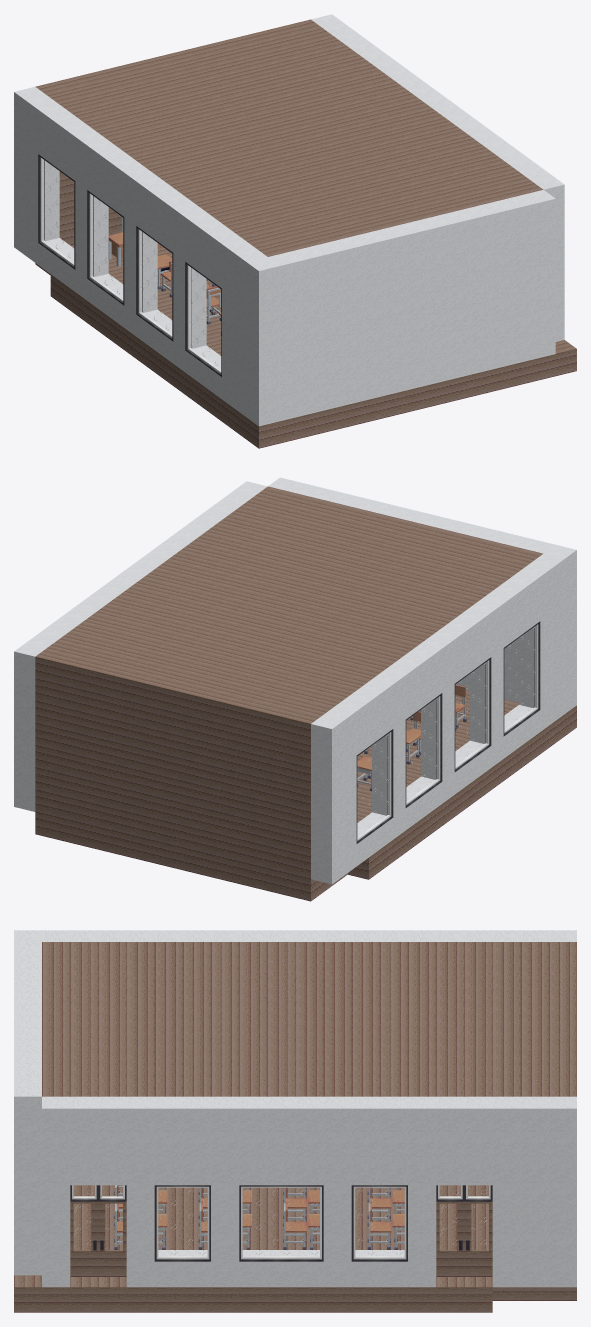
Rendered from scene_1_int_sekolah.glb.
3 views of the same model, one above another, from view 1: azimuth 30°, elevation 25°; view 2: azimuth 150°, elevation 25°; view 3: azimuth 270°, elevation 25° (orthographic). The views are drawn at different scales.
Parts seen in each view (by area): view 1: cube_570, cube_552, cube_561, cube_534, cube_543, cube_579, cube_67, cube_588, cube_573, cube_568, cube_571, cube_574 (+41 smaller); view 2: cube_795, cube_800, cube_796, cube_801, cube_797, cube_799, cube_798, cube_893, cube_892, cube_895, cube_897, cube_889 (+42 smaller); view 3: cube_646, cube_684, cube_735, cube_650, cube_655, cube_661, cube_665, cube_674, cube_680, cube_688, cube_694, cube_700 (+112 smaller).
Part boxes in pixels (bbox=[...]): cube_570: bbox=[246, 257, 279, 293]; cube_552: bbox=[246, 373, 279, 404]; cube_561: bbox=[246, 285, 279, 315]; cube_534: bbox=[246, 396, 279, 426]; cube_543: bbox=[246, 351, 279, 381]; cube_579: bbox=[246, 307, 279, 337]; cube_67: bbox=[246, 418, 279, 448]; cube_588: bbox=[246, 329, 279, 359]; cube_573: bbox=[331, 236, 364, 272]; cube_568: bbox=[416, 215, 449, 251]; cube_571: bbox=[289, 247, 322, 282]; cube_574: bbox=[374, 226, 407, 262]; cube_795: bbox=[311, 715, 344, 751]; cube_800: bbox=[311, 831, 344, 862]; cube_796: bbox=[311, 743, 344, 773]; cube_801: bbox=[311, 854, 344, 884]; cube_797: bbox=[311, 765, 344, 795]; cube_799: bbox=[311, 809, 344, 839]; cube_798: bbox=[311, 787, 344, 817]; cube_893: bbox=[226, 694, 259, 730]; cube_892: bbox=[183, 684, 216, 720]; cube_895: bbox=[268, 705, 301, 740]; cube_897: bbox=[141, 673, 174, 709]; cube_889: bbox=[56, 653, 89, 688]; cube_646: bbox=[267, 1096, 295, 1134]; cube_684: bbox=[98, 1096, 126, 1134]; cube_735: bbox=[464, 1096, 492, 1134]; cube_650: bbox=[295, 1096, 323, 1134]; cube_655: bbox=[351, 1096, 379, 1134]; cube_661: bbox=[323, 1096, 351, 1134]; cube_665: bbox=[154, 1096, 182, 1134]; cube_674: bbox=[239, 1096, 267, 1134]; cube_680: bbox=[211, 1096, 239, 1134]; cube_688: bbox=[126, 1096, 154, 1134]; cube_694: bbox=[70, 1096, 98, 1134]; cube_700: bbox=[42, 1096, 70, 1134].
Size of the model in its own units: 15 by 8 by 20.
8 materials, 8 textured.
